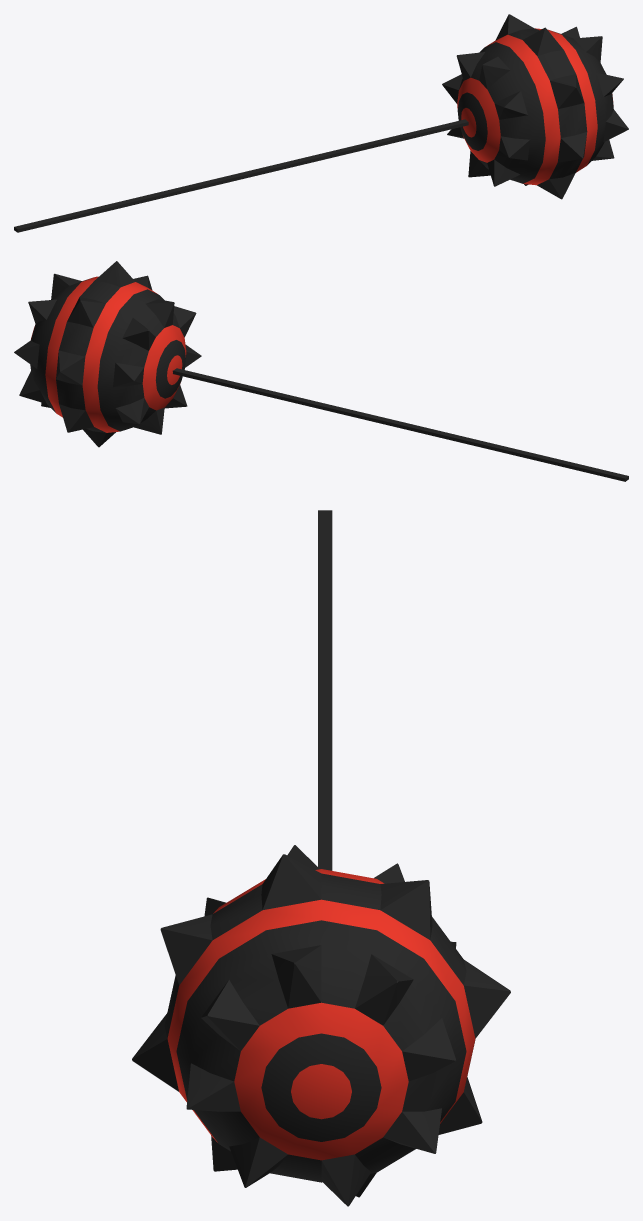
File: DikenliGulle360.fbx
3 renders of one model, top to bottom at view 1: azimuth 30°, elevation 25°; view 2: azimuth 150°, elevation 25°; view 3: azimuth 270°, elevation 25°, orthographic. The views are drawn at different scales.
Parts seen in each view (by area): view 1: Sphere.001; view 2: Sphere.001; view 3: Sphere.001.
Boxes of the visible parts, box(x1,y1,x2,y2) form: Sphere.001: box(14, 14, 628, 232); Sphere.001: box(14, 261, 628, 481); Sphere.001: box(132, 510, 510, 1206).
Bounding box in the file's own units: 251 × 70.1 × 70.1.
